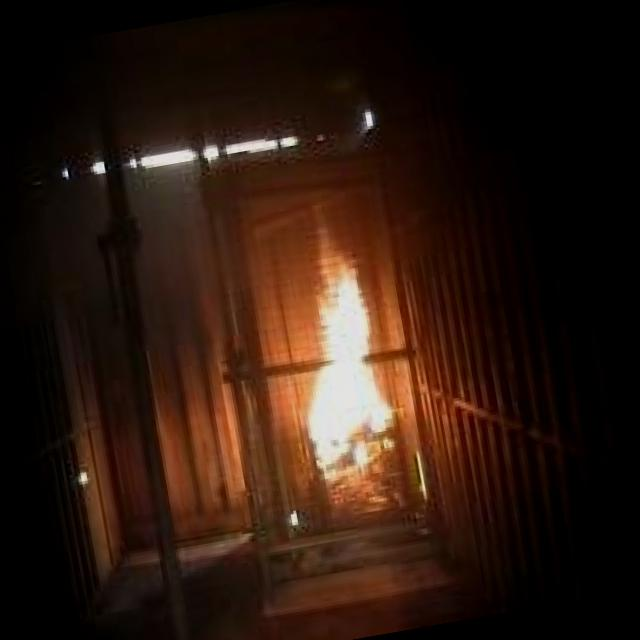fire: (261, 226, 414, 490)
